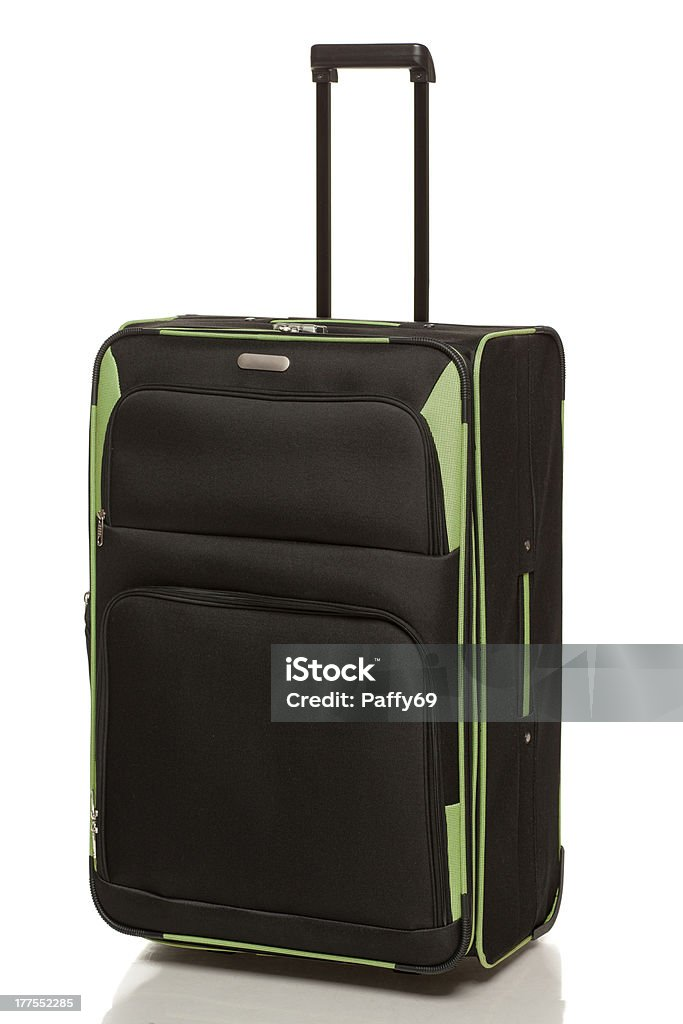Bag: (68, 31, 578, 1002)
Handle: (291, 31, 452, 334)
